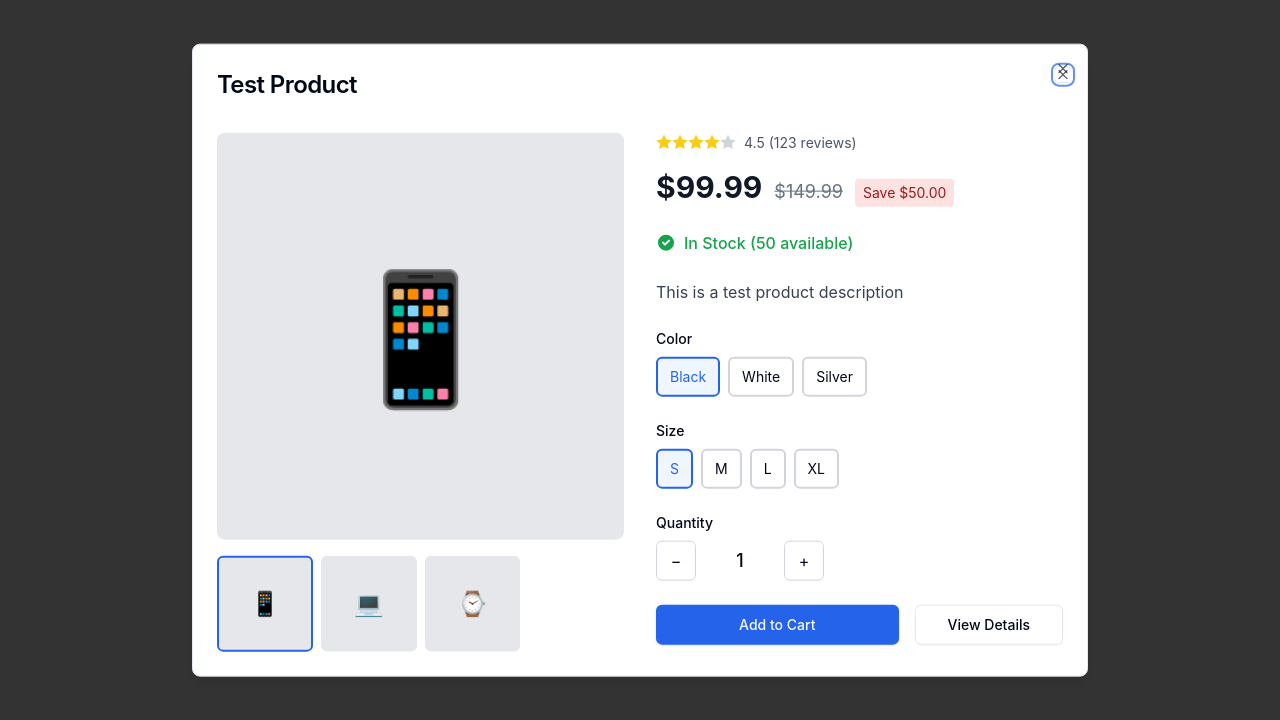
Test: ProductQuickView › should increase quantity when + button is clicked
Click the button with test id "increase-quantity".
click(804, 561)  # box [784,541,824,581]
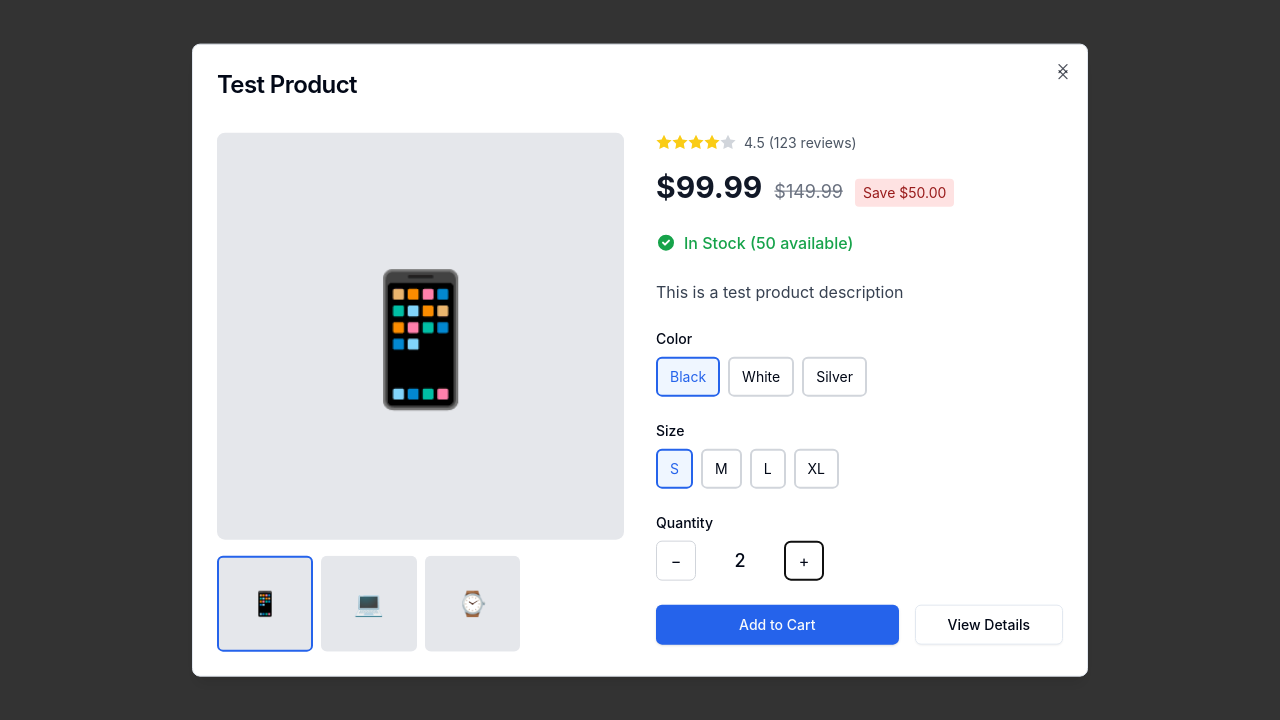
Expected: the text with test id "quantity-display" reads "2", [734,550,746,571]
